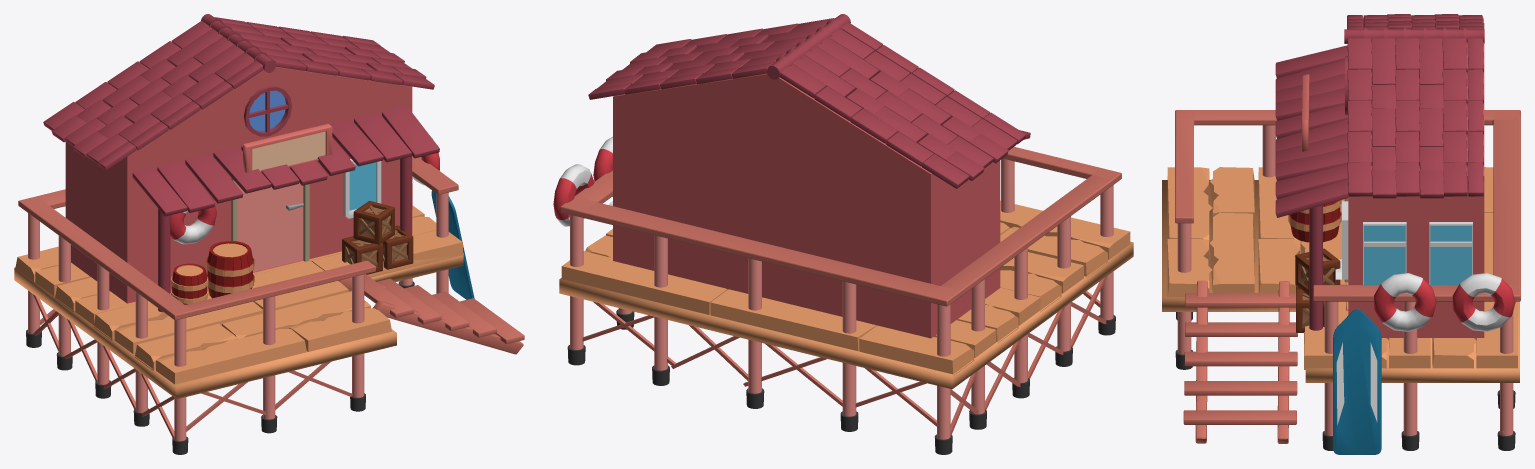
Rendered from Beach House.fbx.
The picture shows the model from 3 angles, left to right: view 1: azimuth 30°, elevation 25°; view 2: azimuth 150°, elevation 25°; view 3: azimuth 270°, elevation 25°; orthographic projection. The views are drawn at different scales.
Parts seen in each view (by area): view 1: Plane.007, Plane.015, Cube.008, Plane.014, Cylinder.006, Plane.004, Cylinder.010, Cube.005, Cylinder.005, Plane.013, Plane.021, Plane.016 (+10 smaller); view 2: Plane.007, Plane.015, Cube.008, Cylinder.006, Plane.004, Cylinder.010, Cylinder.005, Plane.021, Torus.002, Torus.001; view 3: Plane.015, Cube.008, Plane.014, Cylinder.006, Plane.007, Plane.013, Plane.017, Plane.004, Cylinder.010, Cylinder.005, Plane.011, Torus.002 (+8 smaller).
Part boxes in pixels (bbox=[...]): Plane.007: bbox=[65, 66, 412, 303]; Plane.015: bbox=[43, 14, 434, 312]; Cube.008: bbox=[15, 205, 462, 384]; Plane.014: bbox=[132, 106, 439, 216]; Cylinder.006: bbox=[18, 156, 458, 320]; Plane.004: bbox=[14, 253, 463, 398]; Cylinder.010: bbox=[26, 269, 448, 454]; Cube.005: bbox=[237, 182, 303, 271]; Cylinder.005: bbox=[28, 176, 448, 366]; Plane.013: bbox=[364, 274, 524, 344]; Plane.021: bbox=[33, 294, 352, 437]; Plane.016: bbox=[243, 123, 332, 172]; Plane.007: bbox=[613, 73, 1000, 338]; Plane.015: bbox=[588, 14, 1025, 188]; Cube.008: bbox=[561, 200, 1130, 375]; Cylinder.006: bbox=[560, 146, 1121, 306]; Plane.004: bbox=[559, 241, 1133, 389]; Cylinder.010: bbox=[567, 271, 1115, 454]; Cylinder.005: bbox=[570, 158, 1113, 356]; Plane.021: bbox=[582, 276, 1107, 434]; Torus.002: bbox=[553, 164, 594, 226]; Torus.001: bbox=[593, 136, 612, 196]; Plane.015: bbox=[1309, 14, 1484, 330]; Cube.008: bbox=[1167, 167, 1517, 369]; Plane.014: bbox=[1275, 45, 1348, 217]; Cylinder.006: bbox=[1175, 110, 1520, 301]; Plane.007: bbox=[1344, 23, 1484, 337]; Plane.013: bbox=[1183, 293, 1297, 424]; Plane.017: bbox=[1333, 308, 1381, 454]; Plane.004: bbox=[1162, 180, 1519, 382]; Cylinder.010: bbox=[1175, 312, 1515, 450]; Cylinder.005: bbox=[1177, 125, 1513, 353]; Plane.011: bbox=[1429, 222, 1472, 284]; Torus.002: bbox=[1452, 273, 1515, 331].
Size of the model in its own units: 848 by 645 by 635.
